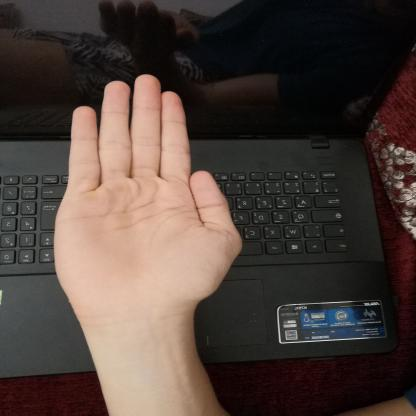SEEN: (39, 63, 256, 320)
